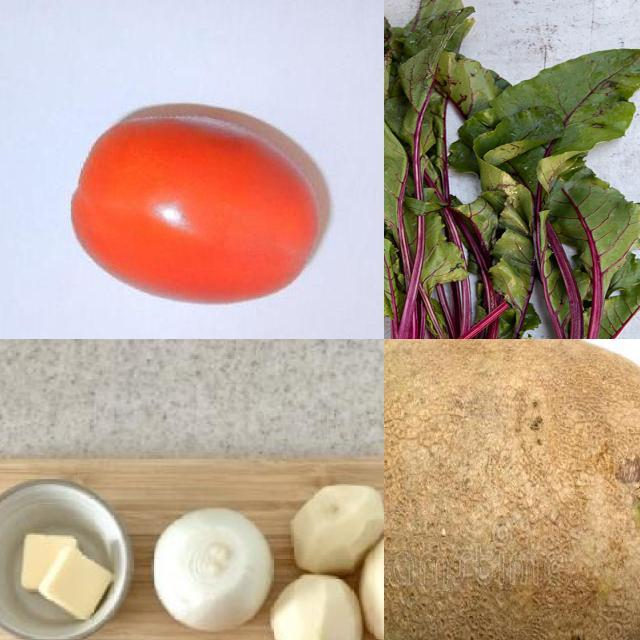onion: (151, 505, 279, 636)
potato: (385, 340, 640, 640), (289, 483, 385, 572), (272, 573, 361, 640), (362, 534, 385, 640)
tomato: (54, 89, 339, 340)
